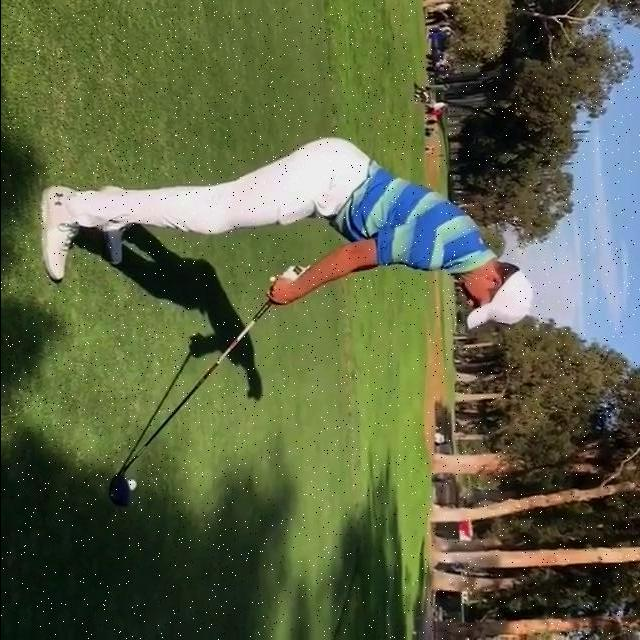ClubHandle: (105, 263, 301, 512)
ClubHead: (107, 476, 132, 511)
GolfBall: (127, 478, 138, 491)
